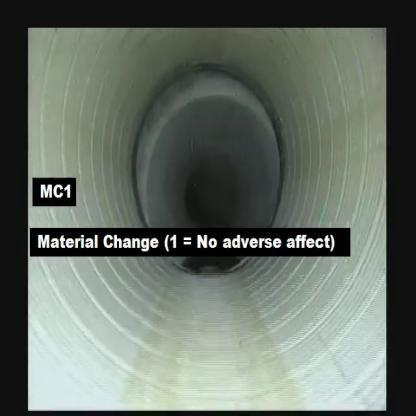jntoffs: (127, 62, 292, 222)
